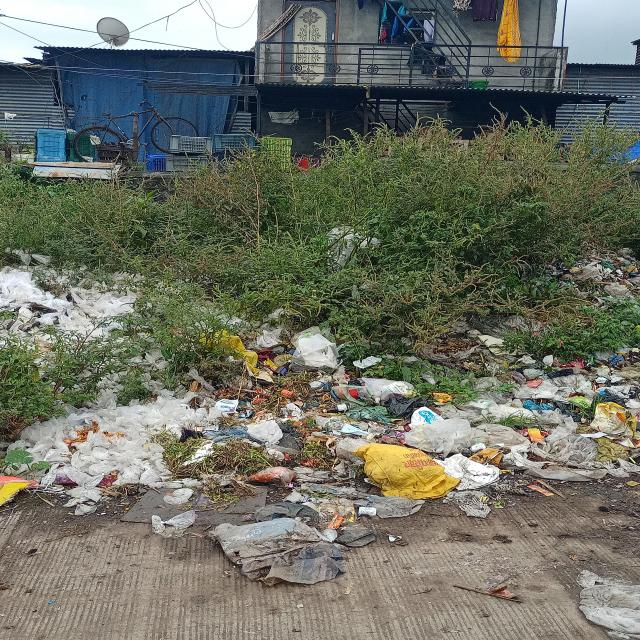garbage: (211, 312, 640, 519), (2, 251, 199, 503)
